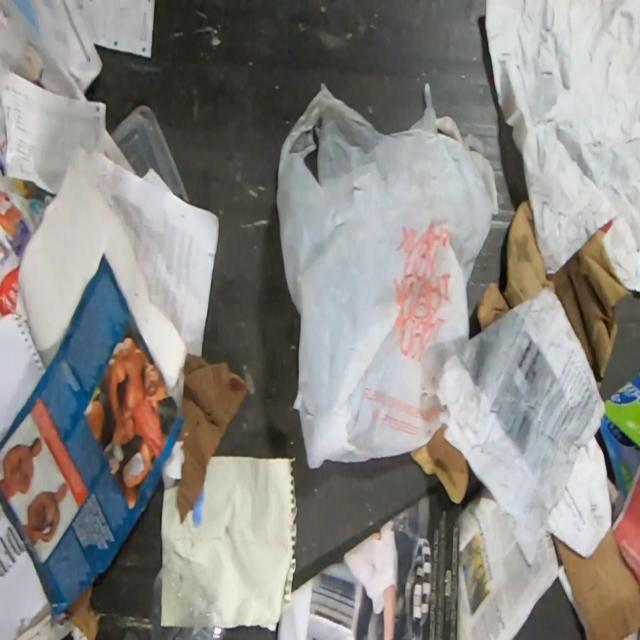cardboard: (478, 202, 626, 390), (177, 353, 248, 525), (554, 529, 638, 638), (600, 369, 639, 507)
rigid_plastic: (110, 105, 190, 205), (148, 563, 226, 638)
soft_plastic: (275, 81, 499, 467)
